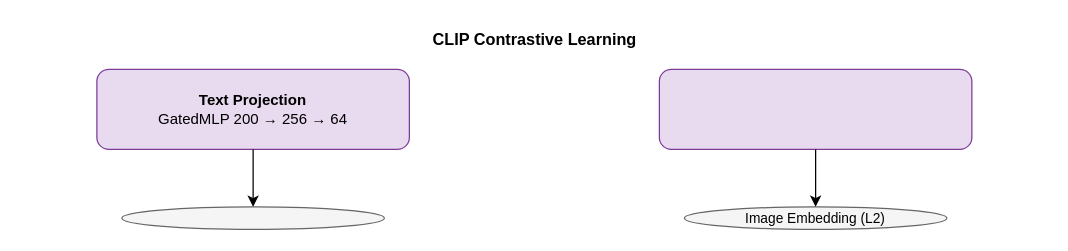
The diagram is 1068 pixels wide and 251 high, and some of its shapes have lost their labels. Each missing label, with the centre of its shape:
Image Projection GatedMLP 512 → 256 → 64: the point at 815,108
Text Embedding (L2): the point at 252,217
